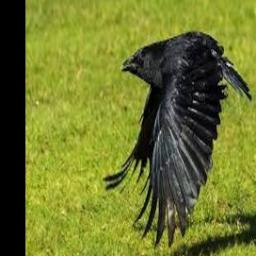Crow: (103, 31, 252, 249)
